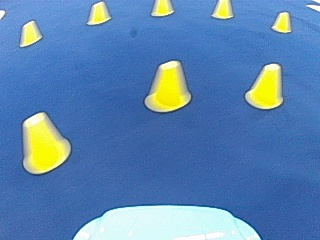cone: (20, 111, 69, 173), (145, 59, 191, 112), (245, 63, 283, 109), (19, 20, 42, 46), (87, 1, 111, 25), (271, 11, 292, 33), (211, 0, 233, 19), (151, 0, 173, 16)
